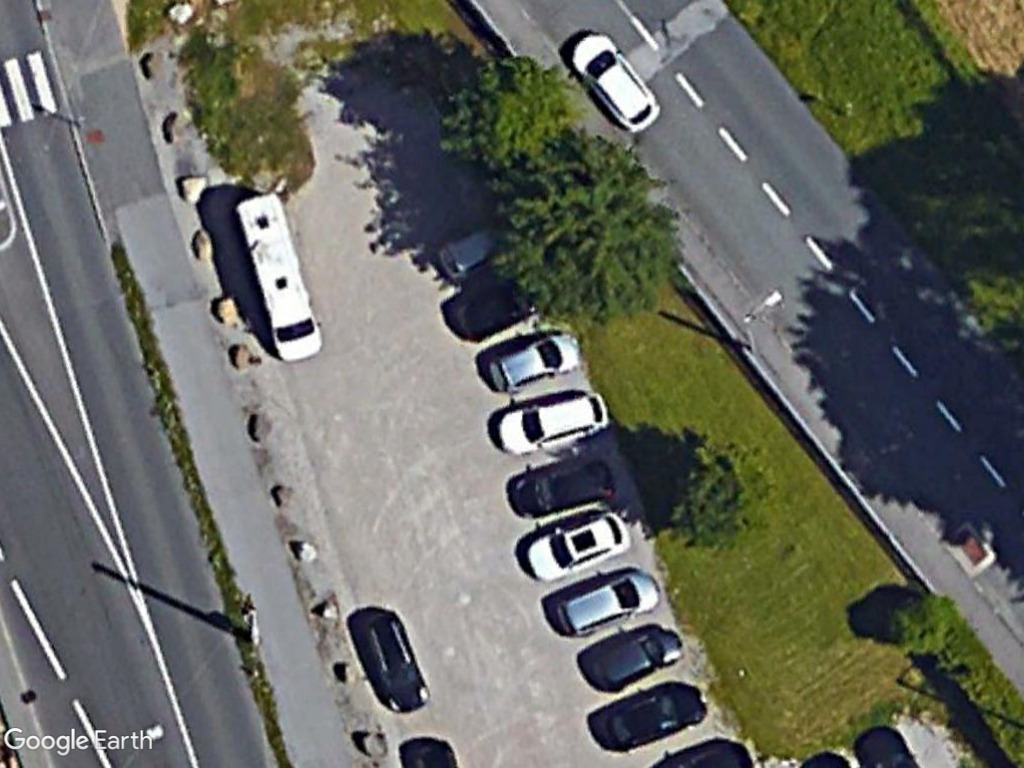car: (560, 27, 664, 135), (492, 382, 612, 458), (522, 506, 633, 585), (550, 562, 661, 639), (582, 621, 683, 694), (509, 454, 614, 524), (480, 324, 582, 395)
van: (227, 189, 327, 369)
